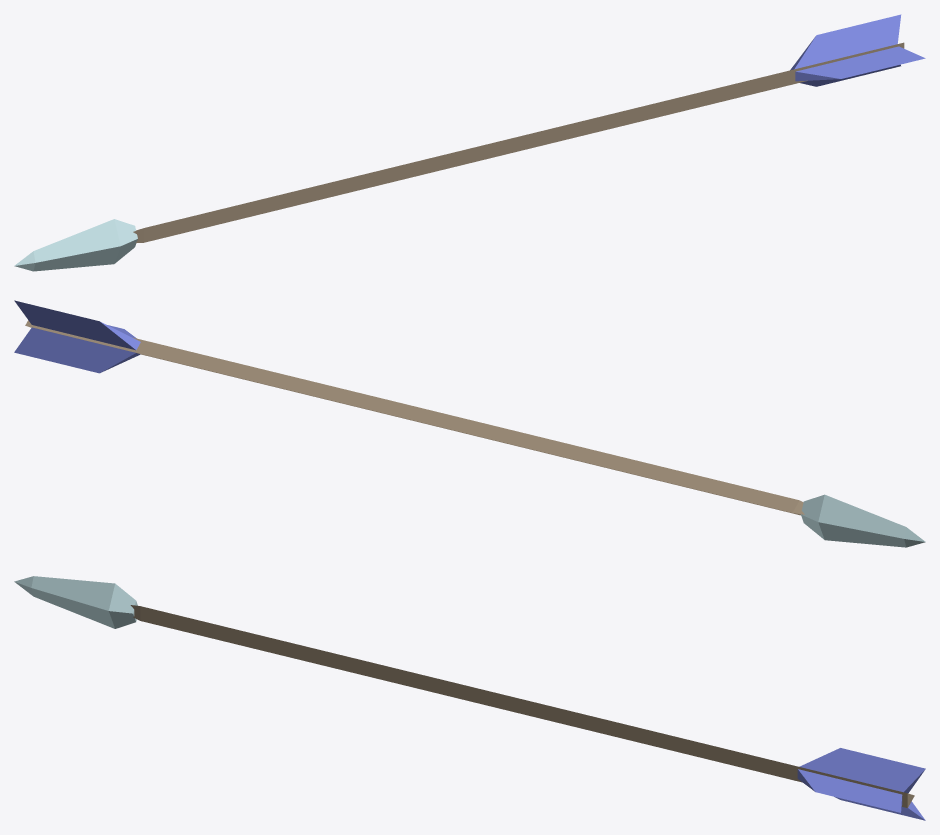
Rendered from arrow.glb.
3 views of the same model, one above another, from view 1: azimuth 30°, elevation 25°; view 2: azimuth 150°, elevation 25°; view 3: azimuth 330°, elevation 25° (orthographic).
Visible parts, largest first — view 1: arrow; view 2: arrow; view 3: arrow.
Boxes of the visible parts, box(x1,y1,x2,y2) form: arrow: box(14, 14, 925, 271); arrow: box(14, 300, 925, 547); arrow: box(14, 576, 925, 820).
Bounding box in the file's own units: 1.26 × 0.0695 × 0.0601.
1 material, 1 textured.
